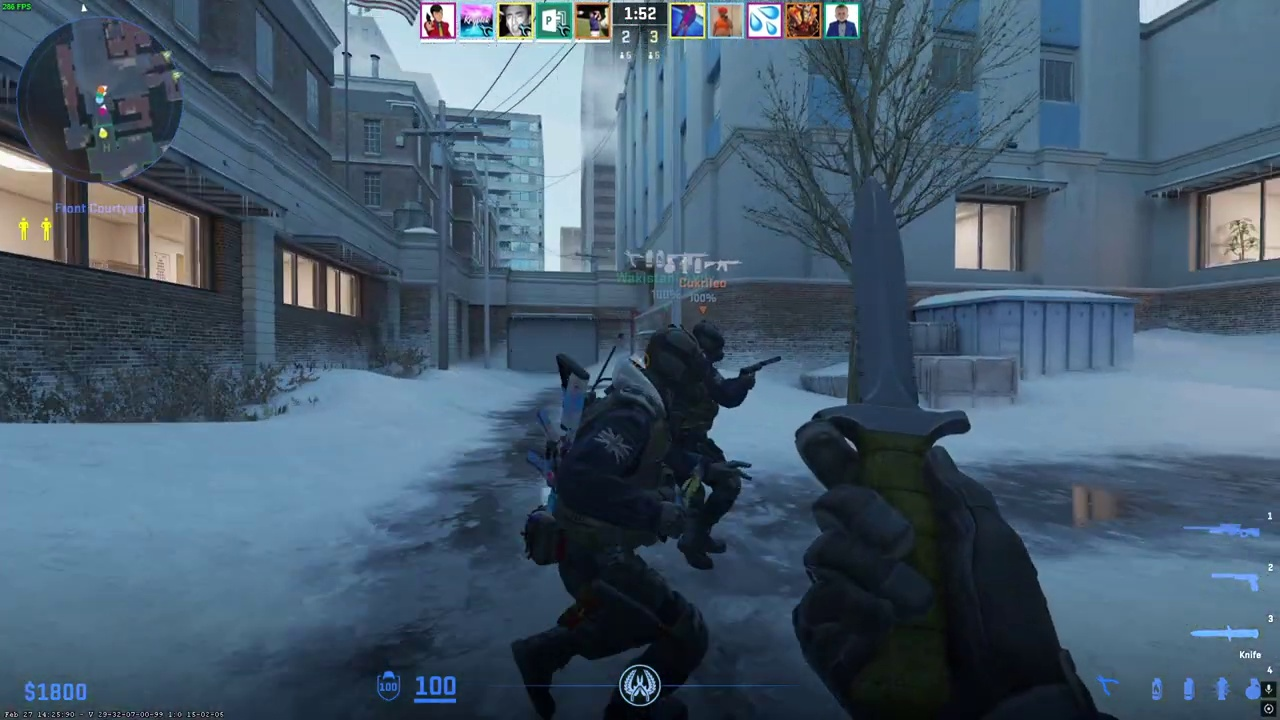CT: (514, 324, 724, 718)
